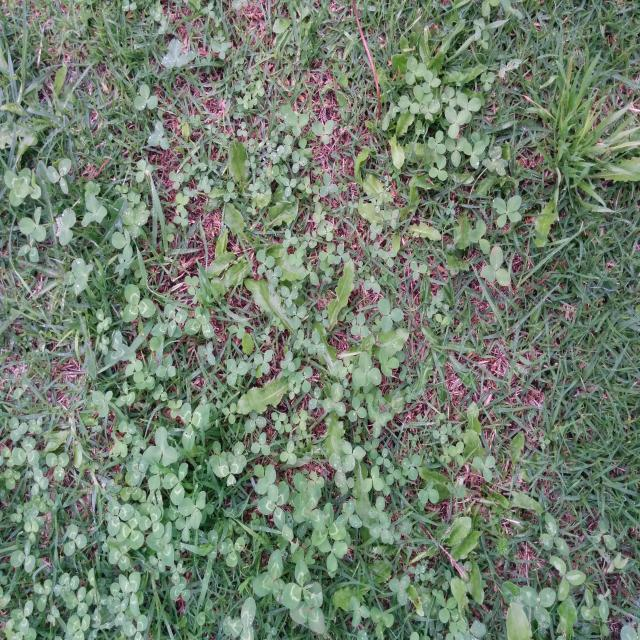Four Leaf Clover: (492, 195, 522, 228)
